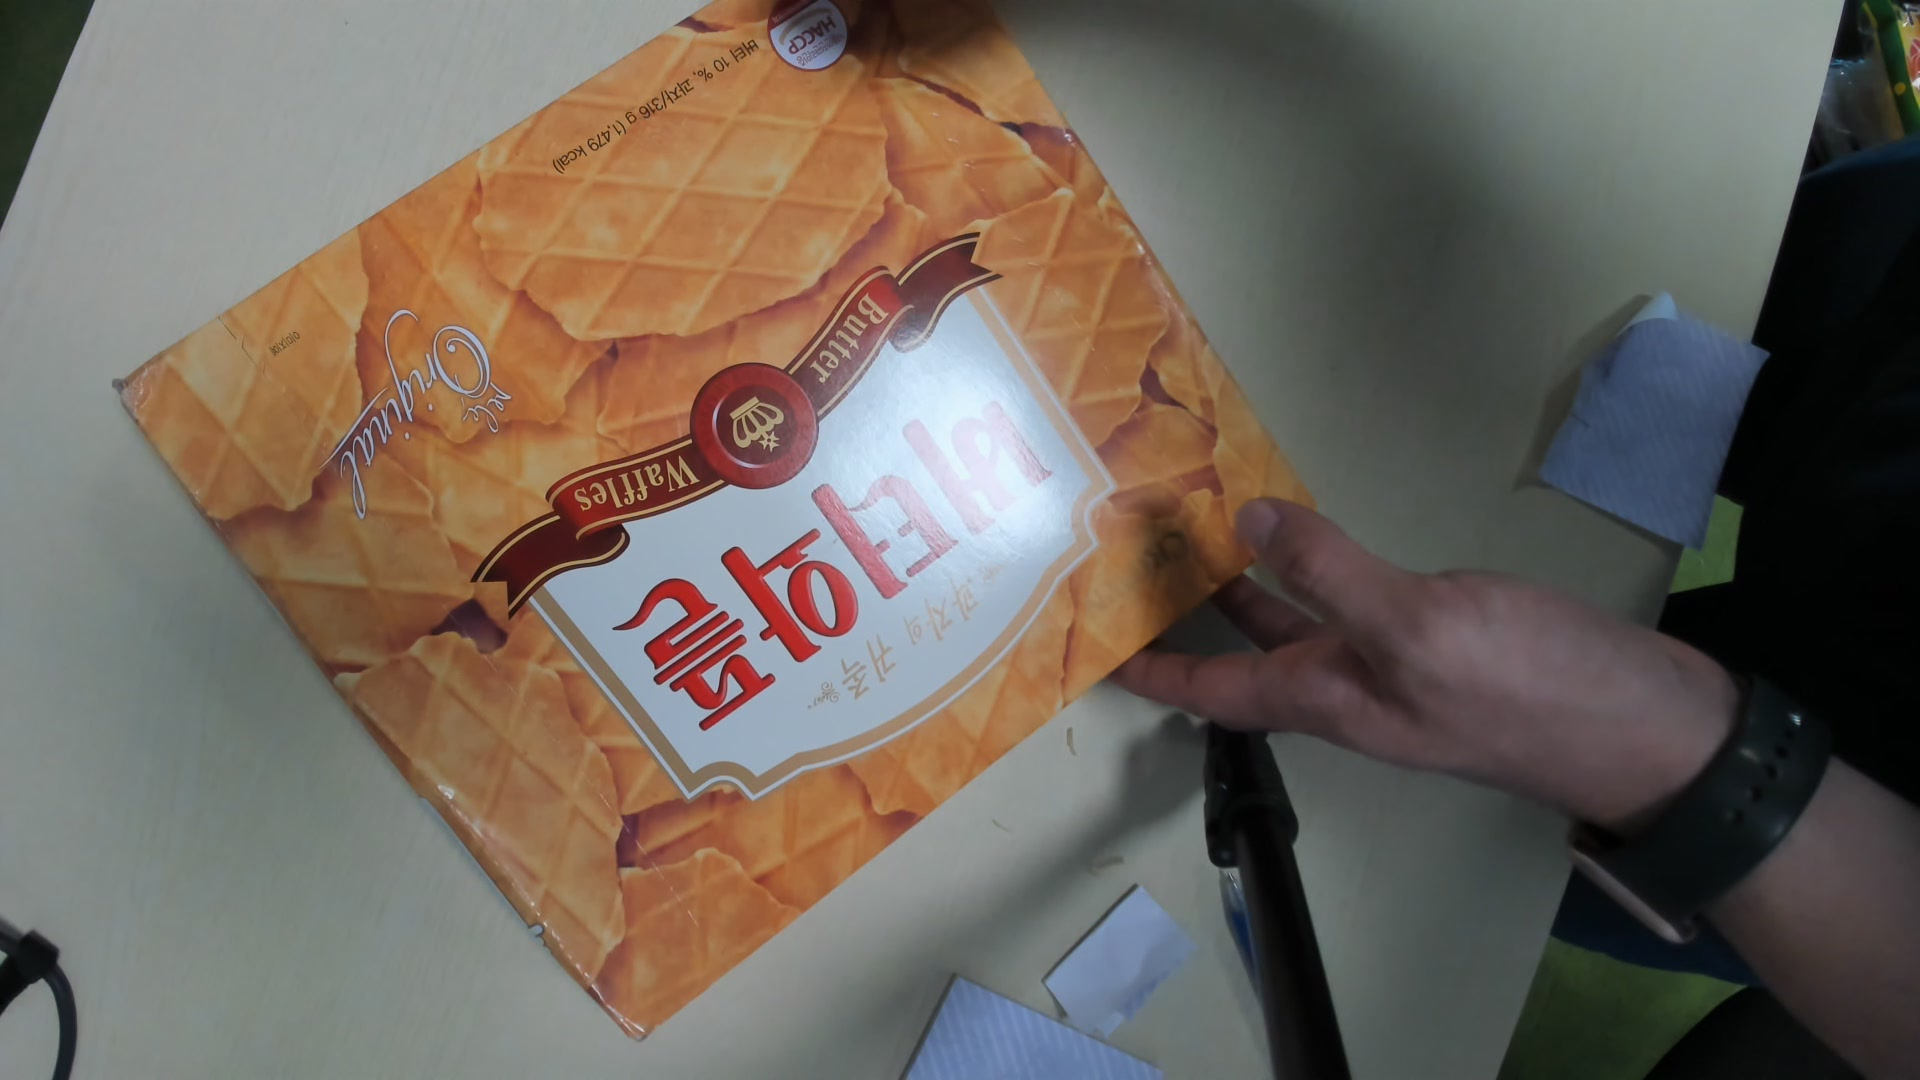BiscuitsCrackersCookies_300-399g_NonHalal_NonHealthy: (108, 1, 1313, 1033)
